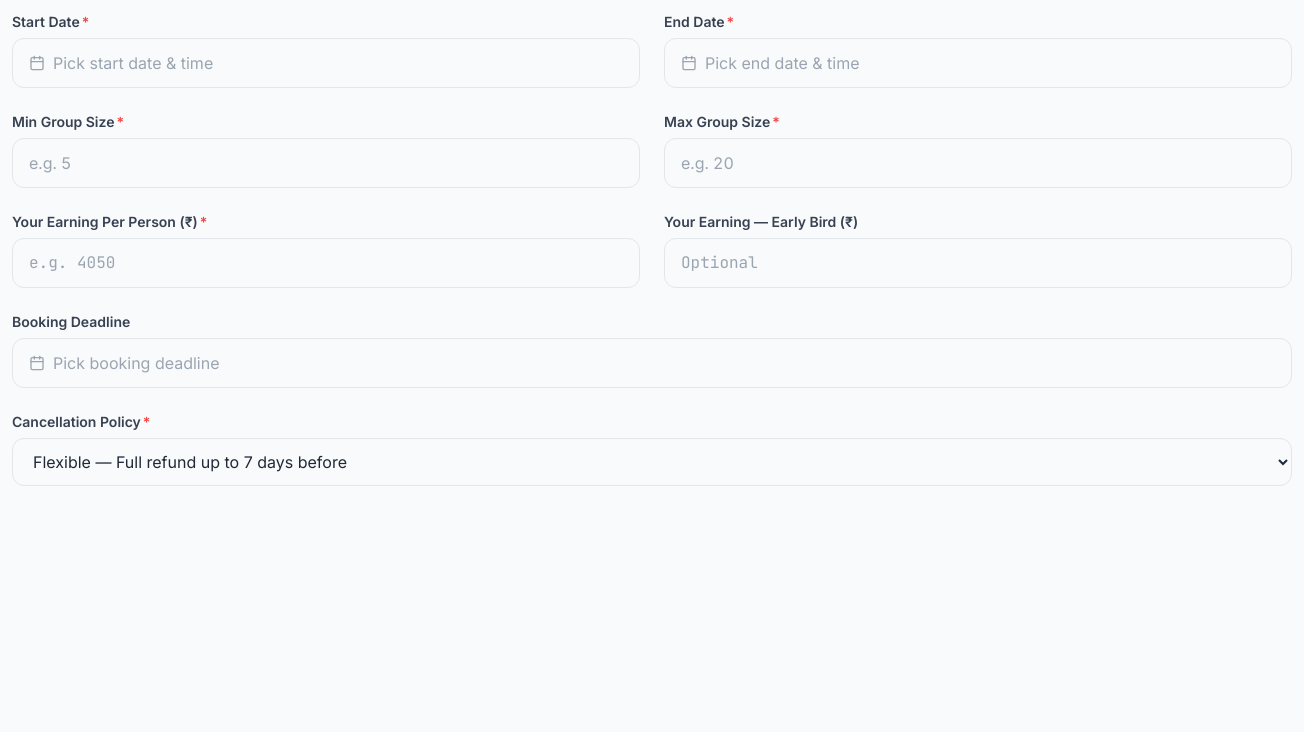
Test case: DatesPricingTab — earning -> gross price conversion › shows an inline validation message on the earning field when the computed gross falls below ₹100
Type "50" into the field with placeholder "e.g. 4050" at {"x": 326, "y": 263}, box [12,238,640,288]
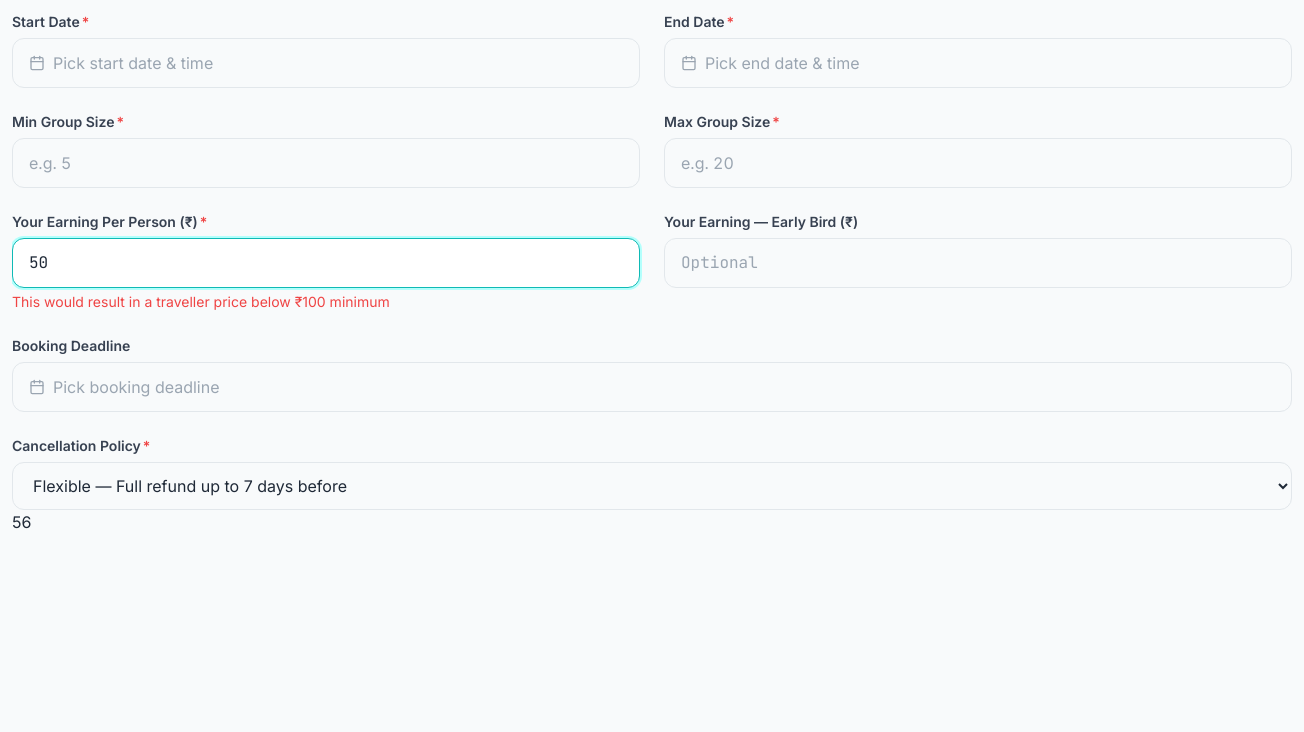
expect the text "This would result in a traveller price below ₹100 minimum" is shown: met, box [12,293,390,310]
